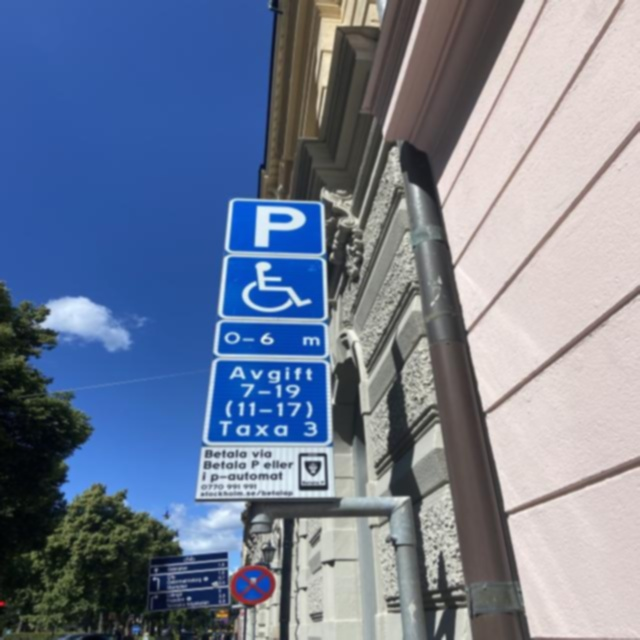P-skylt: (225, 196, 326, 258)
